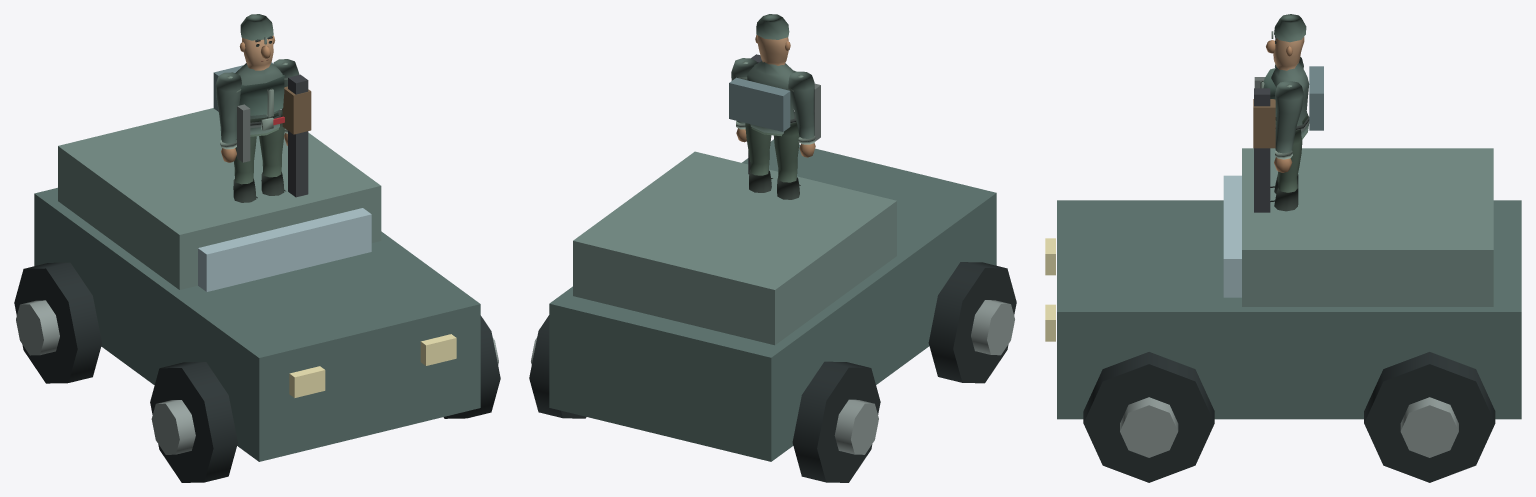
The model's file is motorized_team1.glb.
3 views of the same model, side by side, from view 1: azimuth 30°, elevation 25°; view 2: azimuth 150°, elevation 25°; view 3: azimuth 270°, elevation 25° (orthographic). The views are drawn at different scales.
Visible parts, largest first — view 1: part_11, part_12, part_13, part_15, part_17, part_0, part_16, part_18, part_2, part_21, part_5, part_1 (+6 smaller); view 2: part_11, part_12, part_15, part_17, part_10, part_16, part_18, part_2, part_19, part_7, part_1, part_8 (+2 smaller); view 3: part_11, part_12, part_21, part_19, part_22, part_20, part_13, part_4, part_1, part_5, part_0, part_8 (+2 smaller).
Part boxes in pixels (bbox=[...]): part_11: bbox=[34, 187, 480, 461]; part_12: bbox=[58, 108, 381, 289]; part_13: bbox=[198, 208, 371, 291]; part_15: bbox=[14, 262, 101, 383]; part_17: bbox=[150, 362, 237, 482]; part_0: bbox=[235, 63, 284, 136]; part_16: bbox=[16, 300, 59, 355]; part_18: bbox=[151, 400, 195, 454]; part_2: bbox=[215, 72, 241, 162]; part_21: bbox=[443, 315, 500, 418]; part_5: bbox=[288, 74, 308, 197]; part_1: bbox=[239, 14, 275, 70]; part_11: bbox=[549, 139, 996, 461]; part_12: bbox=[573, 151, 896, 345]; part_15: bbox=[792, 361, 880, 482]; part_17: bbox=[928, 262, 1016, 383]; part_10: bbox=[729, 77, 790, 131]; part_16: bbox=[834, 399, 878, 454]; part_18: bbox=[971, 300, 1014, 355]; part_2: bbox=[788, 71, 815, 157]; part_19: bbox=[529, 315, 586, 418]; part_7: bbox=[773, 120, 800, 199]; part_1: bbox=[755, 14, 790, 65]; part_8: bbox=[745, 123, 772, 192]; part_11: bbox=[1057, 200, 1521, 419]; part_12: bbox=[1242, 148, 1493, 306]; part_21: bbox=[1083, 352, 1214, 482]; part_19: bbox=[1364, 352, 1495, 482]; part_22: bbox=[1120, 397, 1178, 457]; part_20: bbox=[1400, 397, 1458, 457]; part_13: bbox=[1223, 175, 1241, 297]; part_4: bbox=[1274, 81, 1303, 172]; part_1: bbox=[1266, 14, 1306, 70]; part_5: bbox=[1254, 88, 1270, 212]; part_0: bbox=[1260, 63, 1309, 139]; part_8: bbox=[1270, 129, 1302, 211].
Size of the model in its own units: 2.09 by 2.37 by 2.62.
